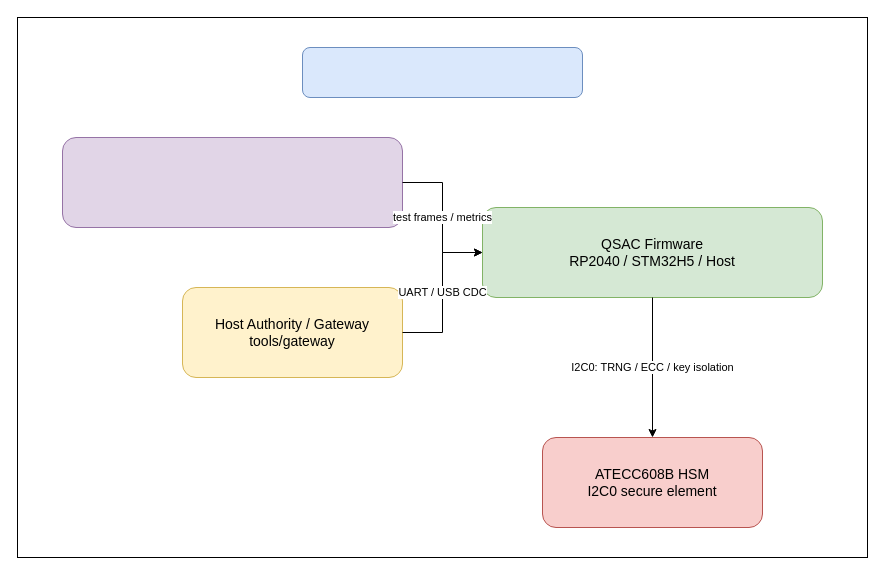
This 885x575 diagram has some shape labels left out. Each missing label, with the centre of its shape:
QSAC System Context: the point at 442,72
Security & Benchmark Tools TVLA / fuzzing / reports: the point at 232,182
